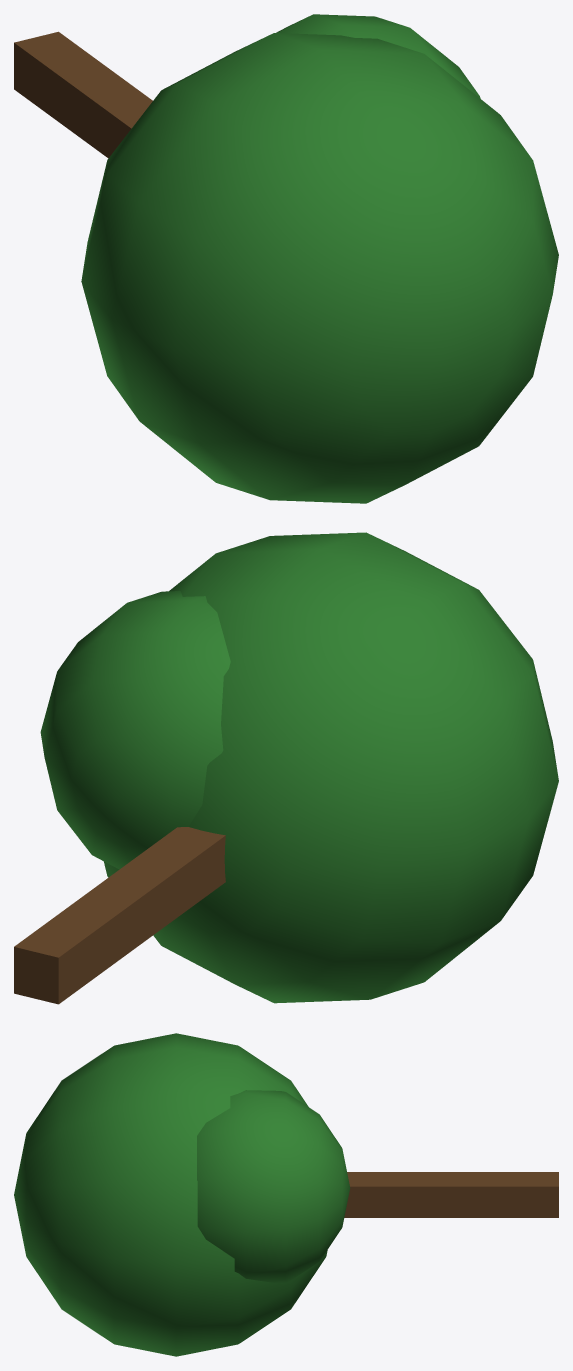
File: arbol_0.obj
The picture shows the model from 3 angles, top to bottom: view 1: azimuth 30°, elevation 25°; view 2: azimuth 150°, elevation 25°; view 3: azimuth 270°, elevation 25°; orthographic projection. The views are drawn at different scales.
Parts seen in each view (by area): view 1: arbol_0_hojas_0, arbol_0_tronco; view 2: arbol_0_hojas_0, arbol_0_tronco; view 3: arbol_0_hojas_0, arbol_0_tronco.
Boxes of the visible parts, bbox=[...] form: arbol_0_hojas_0: bbox=[81, 14, 558, 503]; arbol_0_tronco: bbox=[14, 31, 152, 158]; arbol_0_hojas_0: bbox=[40, 532, 558, 1003]; arbol_0_tronco: bbox=[14, 827, 225, 1004]; arbol_0_hojas_0: bbox=[14, 1033, 350, 1356]; arbol_0_tronco: bbox=[344, 1172, 558, 1217].
Size of the model in its own units: 2.8 by 2.8 by 4.7.
